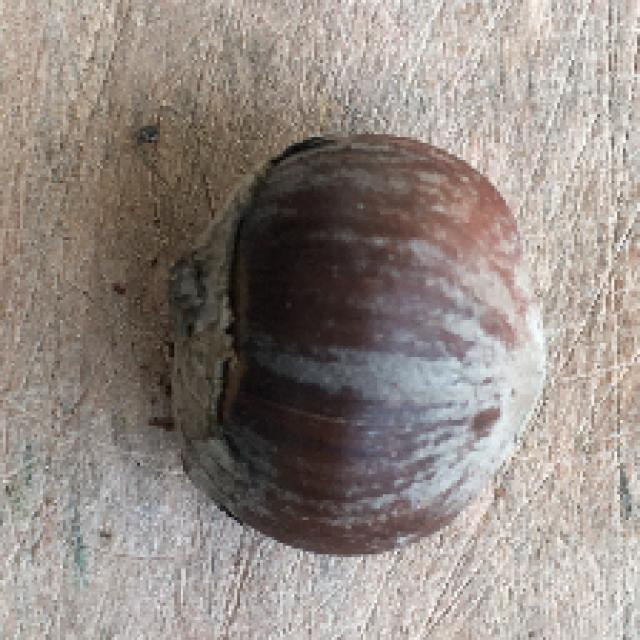damagedHazelnut: (136, 132, 558, 562)
